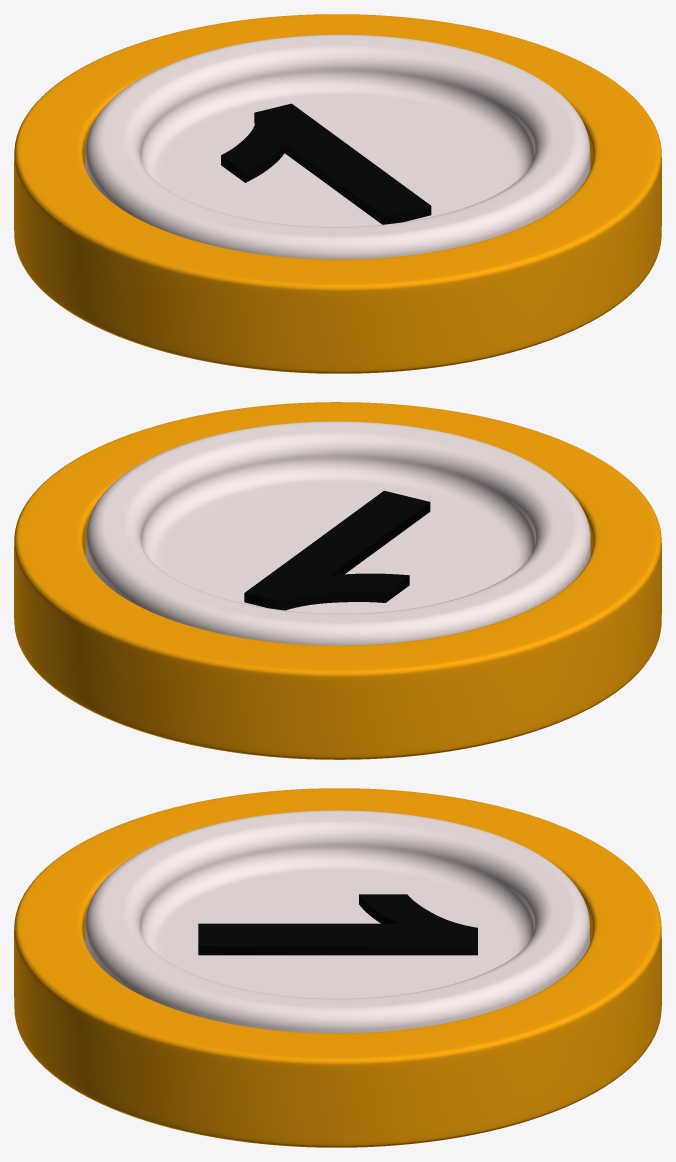
Rendered from koin1satuo.fbx.
The picture shows the model from 3 angles, top to bottom: view 1: azimuth 30°, elevation 25°; view 2: azimuth 150°, elevation 25°; view 3: azimuth 270°, elevation 25°; orthographic projection.
Visible parts, largest first — view 1: Cylinder.031, Koin1satu, Text; view 2: Cylinder.031, Koin1satu, Text; view 3: Cylinder.031, Koin1satu, Text.
Part boxes in pixels (x1,y1,x2,y2): Cylinder.031: [14, 14, 661, 373]; Koin1satu: [85, 34, 590, 259]; Text: [221, 103, 431, 224]; Cylinder.031: [14, 402, 661, 759]; Koin1satu: [86, 421, 590, 645]; Text: [244, 490, 430, 610]; Cylinder.031: [14, 788, 661, 1147]; Koin1satu: [85, 810, 589, 1033]; Text: [198, 894, 477, 955].
Size of the model in its own units: 256 by 47.01 by 256.
